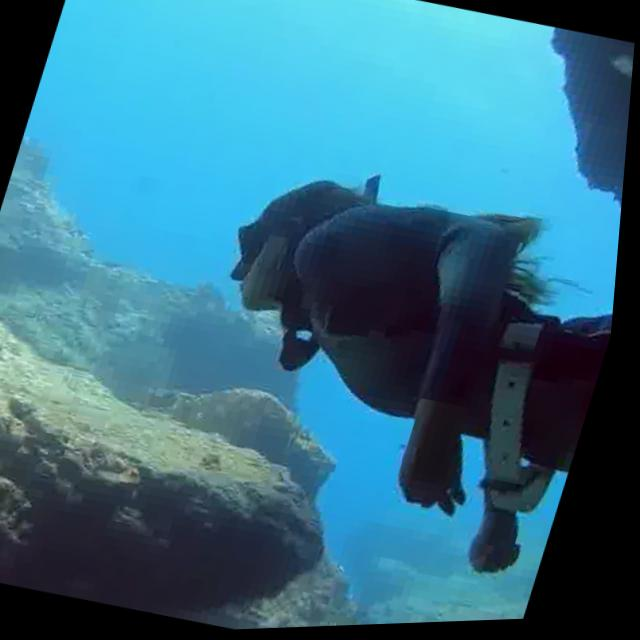human: (142, 116, 631, 599)
